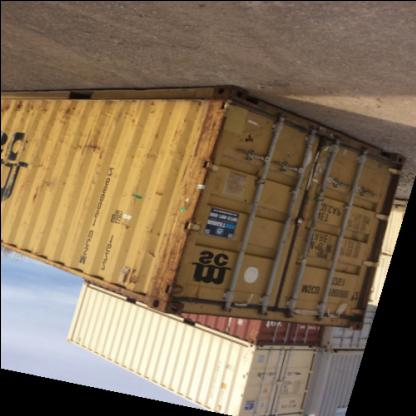Damage: (149, 232, 191, 304), (1, 97, 77, 135), (151, 177, 208, 223), (302, 136, 338, 198), (192, 100, 224, 162), (231, 112, 271, 146), (290, 233, 332, 264), (112, 262, 144, 292), (67, 134, 103, 160), (332, 307, 366, 333), (26, 190, 46, 210)
